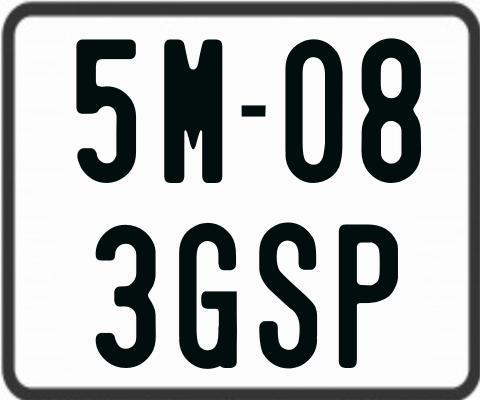0: (284, 36, 343, 181)
3: (96, 223, 162, 370)
5: (74, 36, 138, 186)
8: (361, 37, 426, 187)
G: (178, 222, 237, 368)
M: (164, 39, 228, 185)
P: (339, 223, 398, 369)
S: (259, 221, 320, 368)
